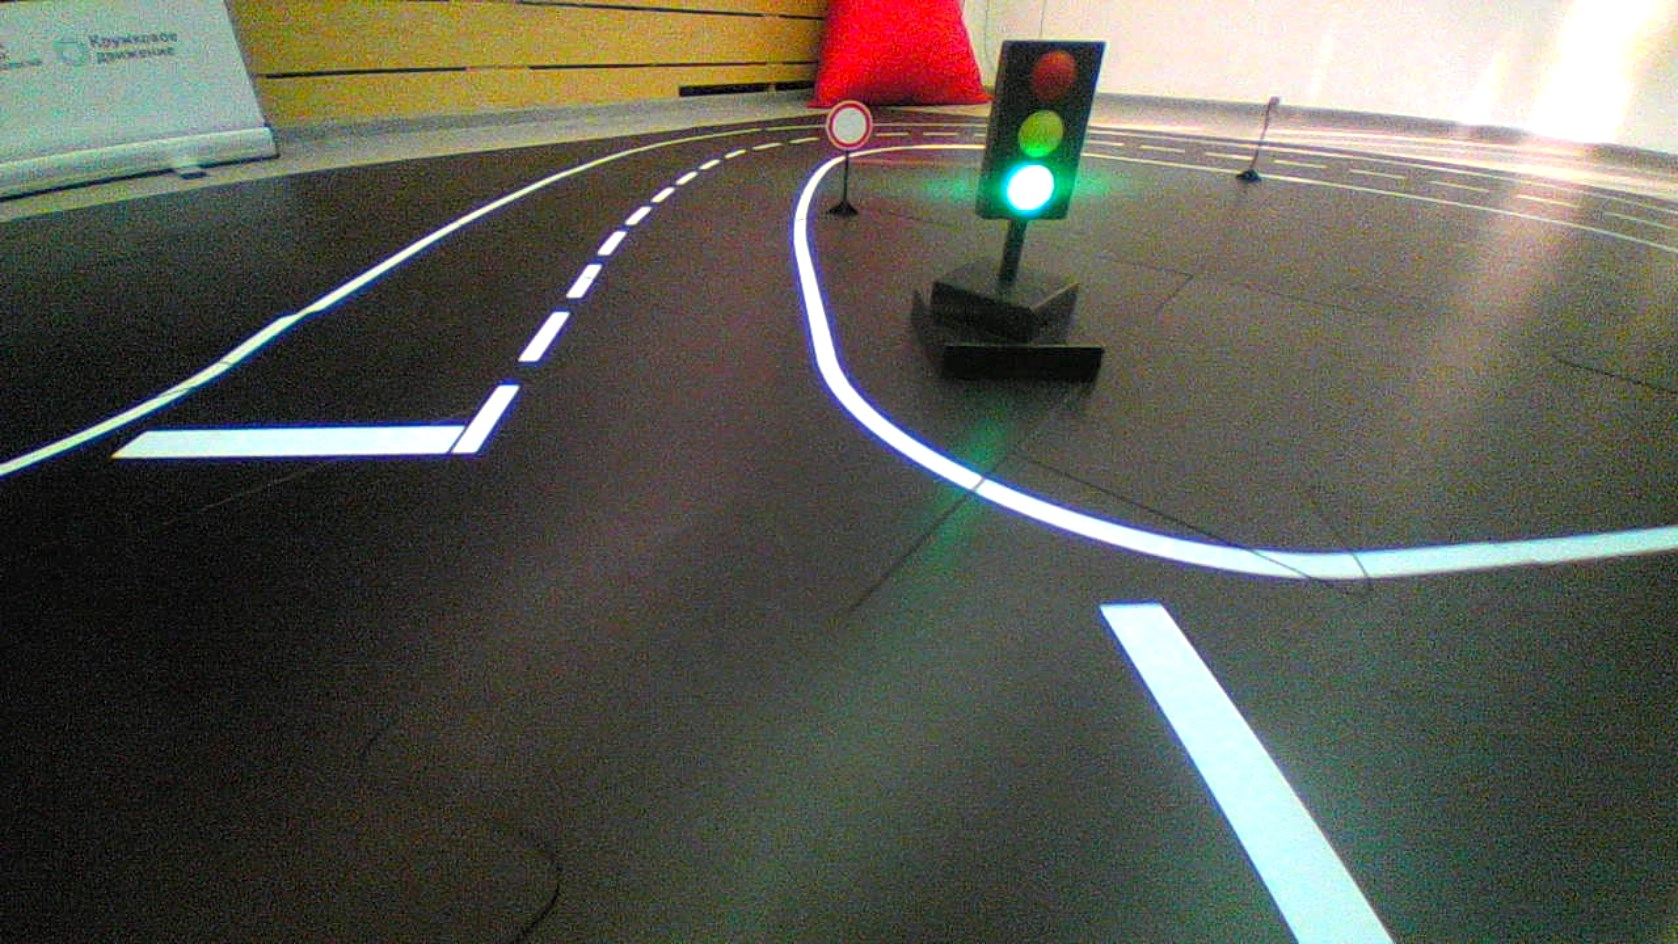trafficlight: (972, 39, 1108, 221)
